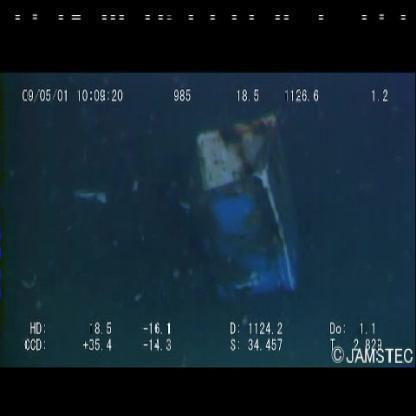Rác: (180, 115, 303, 308)
